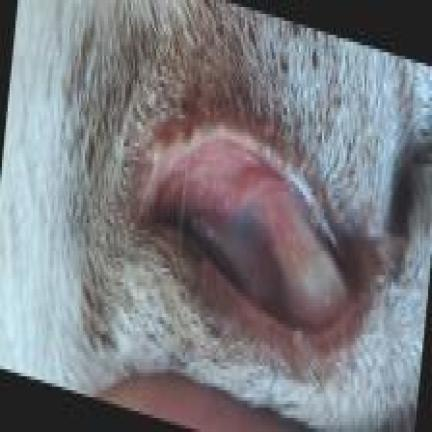goat-eye-anemia-22222222: (158, 136, 347, 327)
